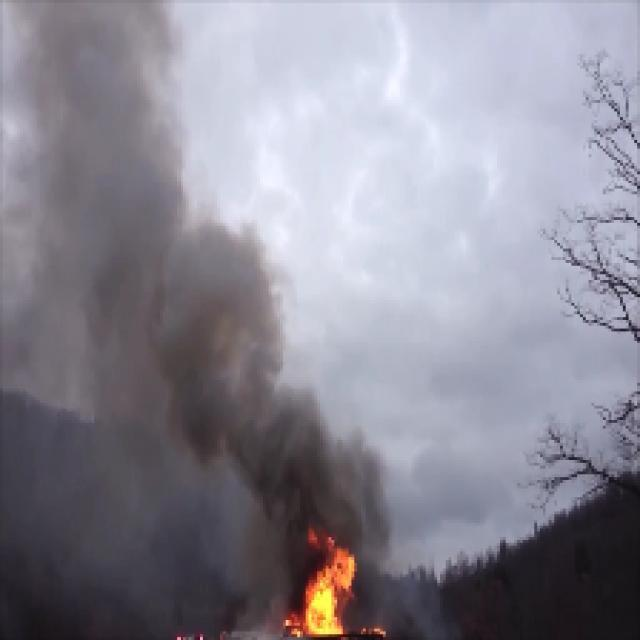Fire: (287, 541, 354, 640)
Smoke: (49, 70, 161, 353), (163, 247, 256, 439), (267, 401, 335, 543)
